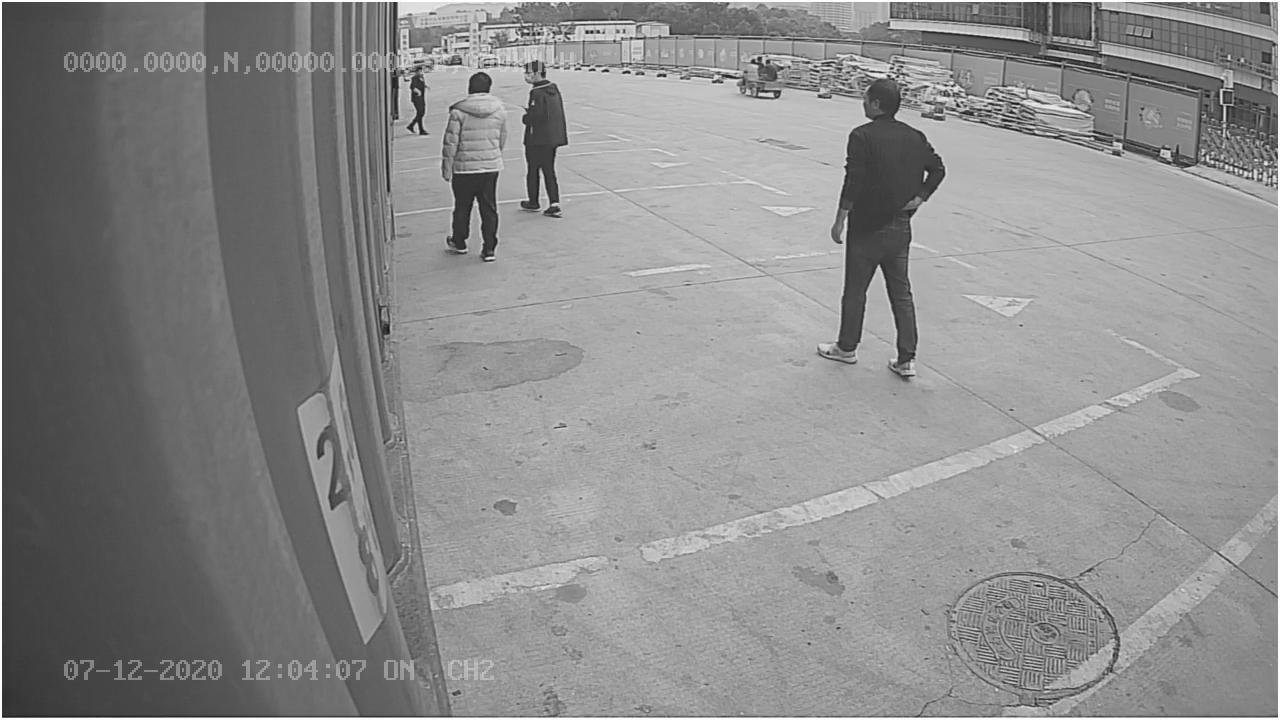person: (814, 78, 948, 381)
